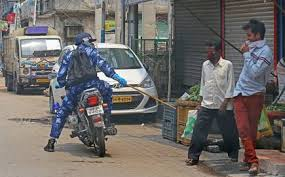mask: (243, 25, 264, 49), (73, 33, 99, 52), (205, 41, 221, 61)
